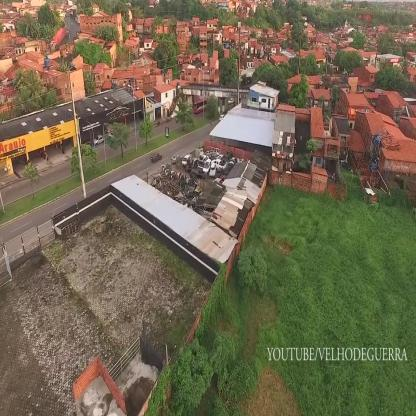lixo: (161, 170, 201, 210), (190, 150, 232, 176)
